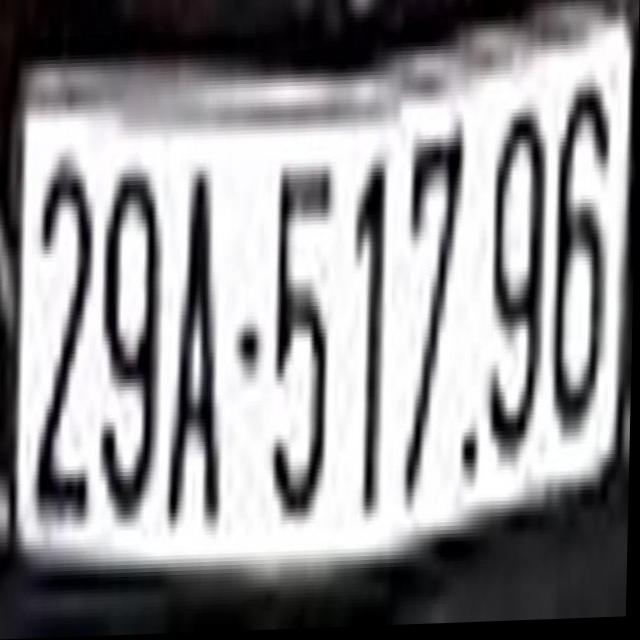1: (346, 155, 393, 548)
2: (31, 129, 97, 542)
5: (268, 145, 338, 562)
6: (554, 72, 614, 453)
7: (403, 122, 460, 515)
9: (96, 131, 163, 536), (487, 101, 547, 478)
A: (165, 148, 229, 554)
